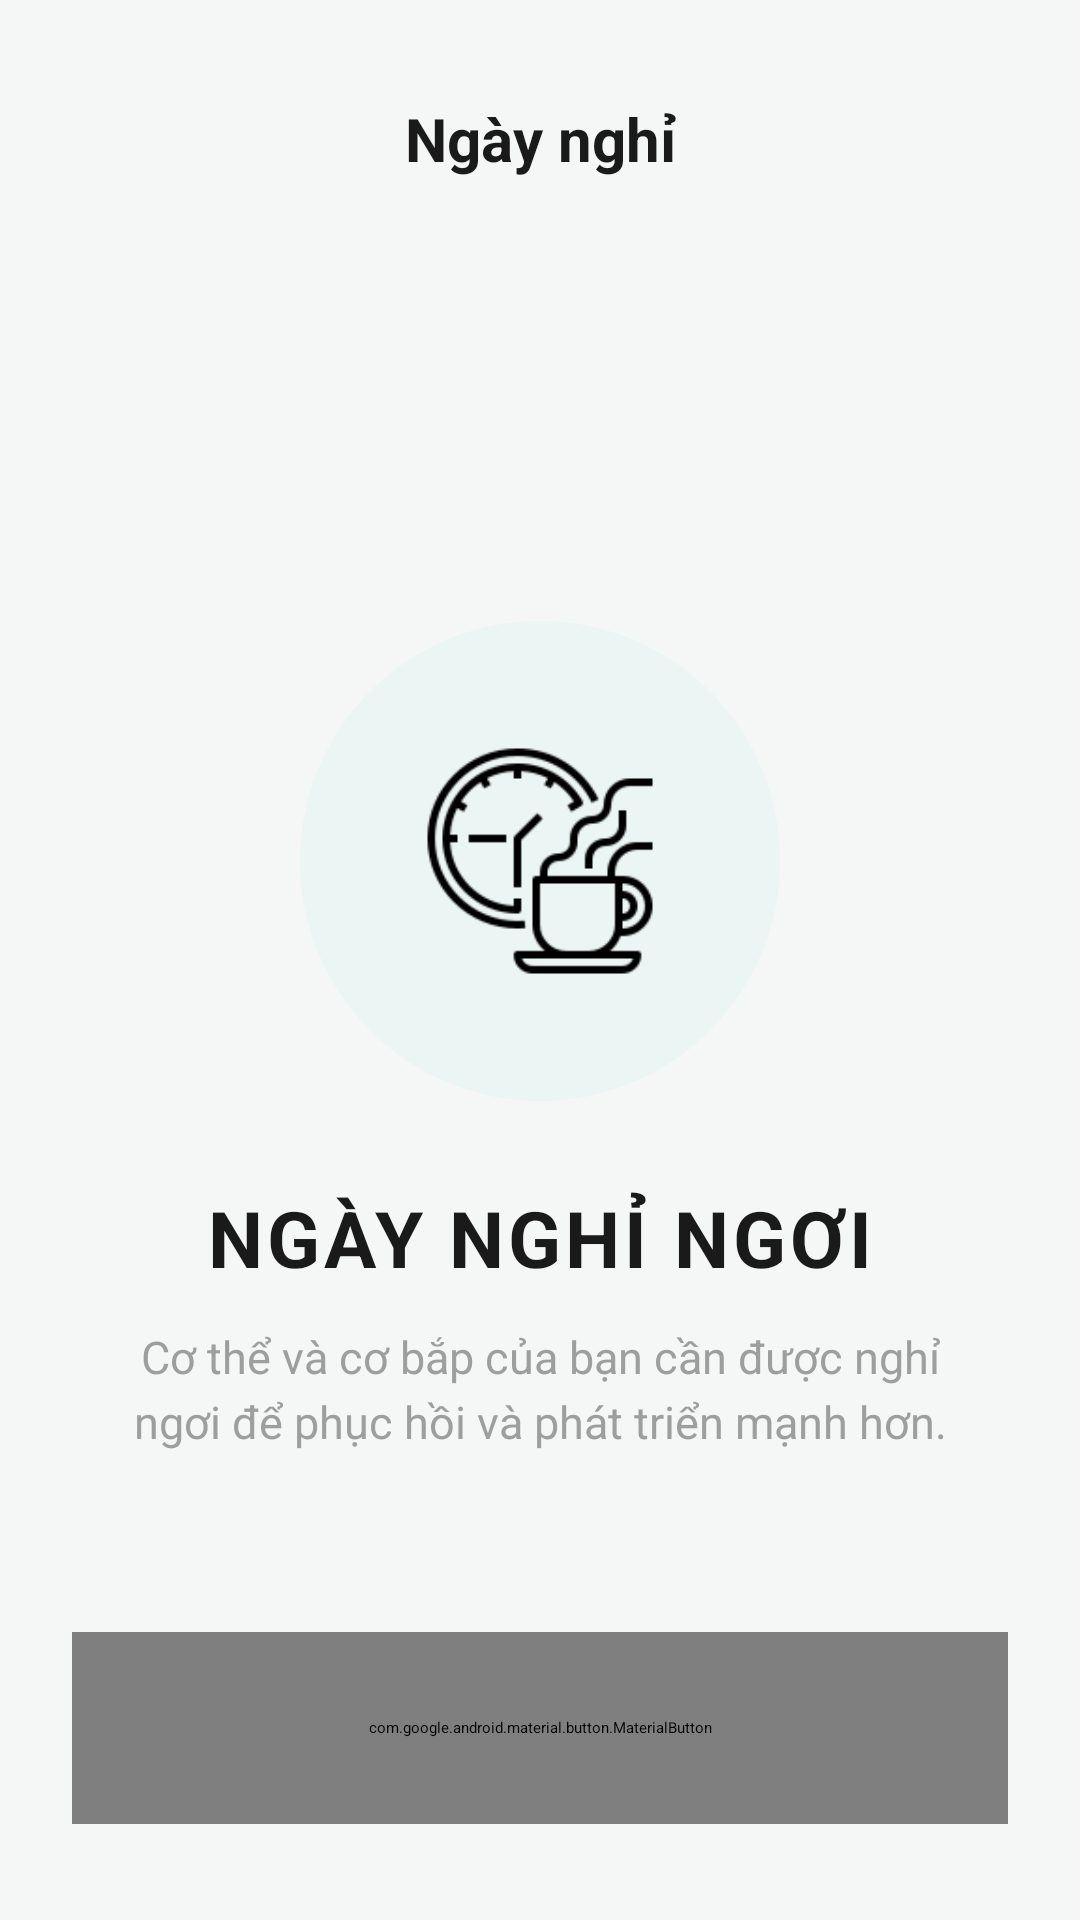

Icon click points for this 1080×1920 phone screenshot, format (x=x, y=y):
rest day: (x=540, y=861)
